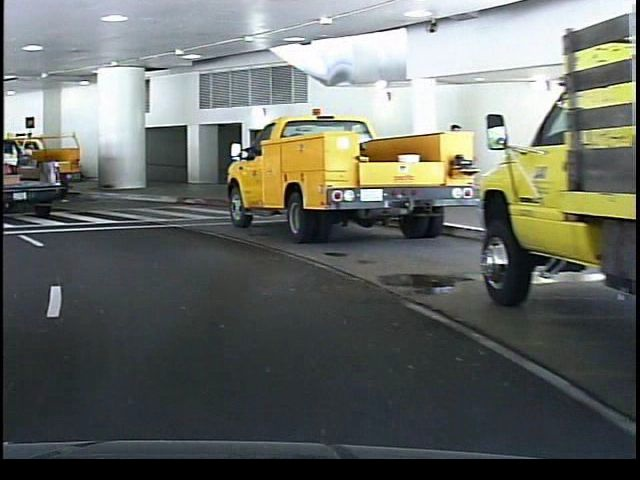person: (438, 116, 470, 213)
